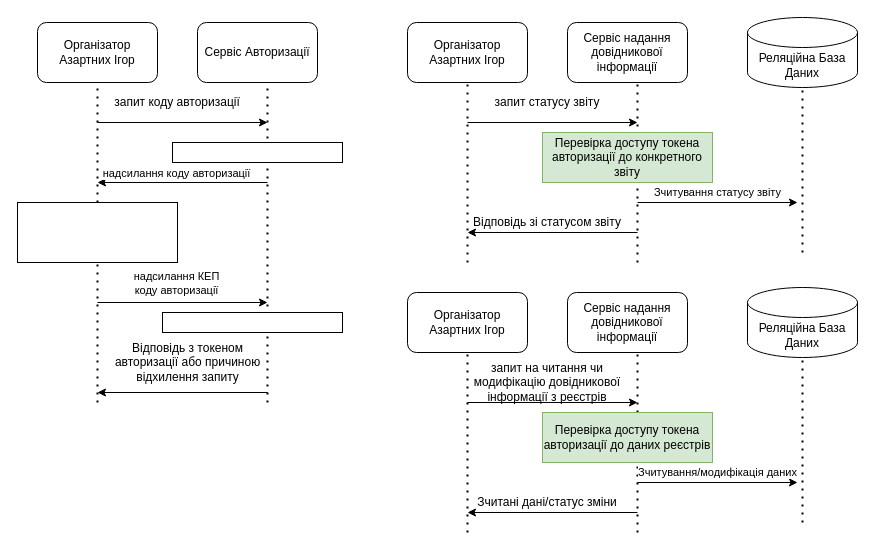
Image size: 875x552. Some labels were removed from this diagram. Here are the shapes that lost their labels. From the top down, the centre of each, then its label:
At pixel 257 152: "генерація коду авторизації".
At pixel 97 232: "створення КЕП коду авторизації сертифікатом зареєстрованого користувача".
At pixel 252 322: "Валідація КЕП".
